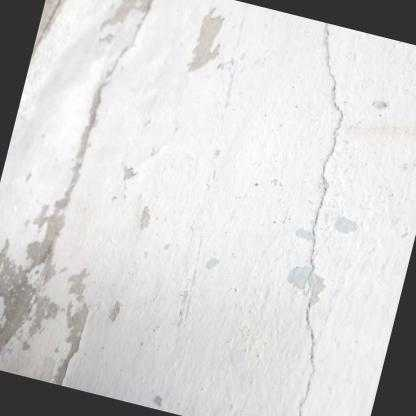crack: (296, 23, 345, 416)
